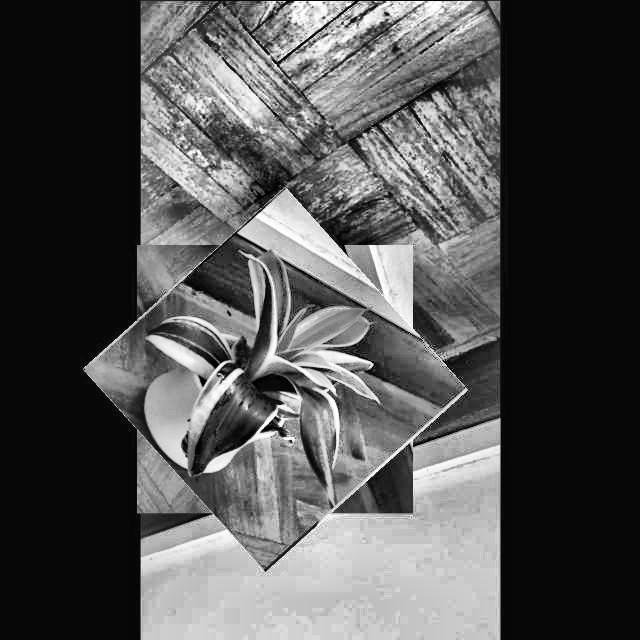plants: (110, 214, 439, 544)
